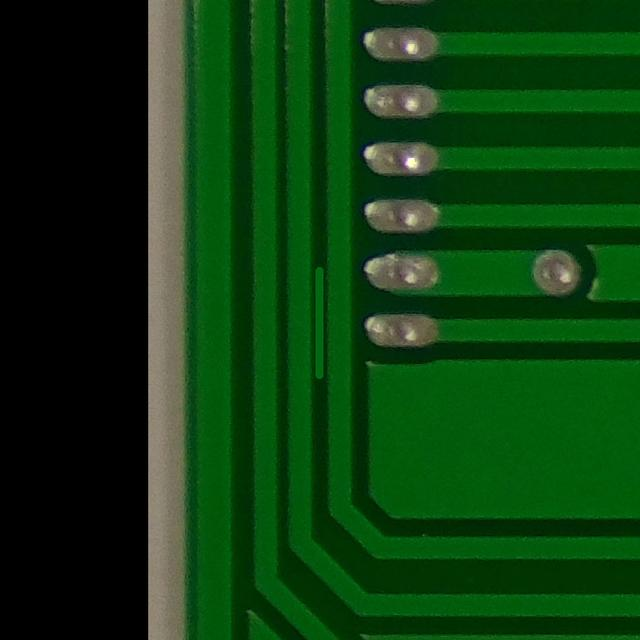spurious_copper: (300, 251, 339, 390)
